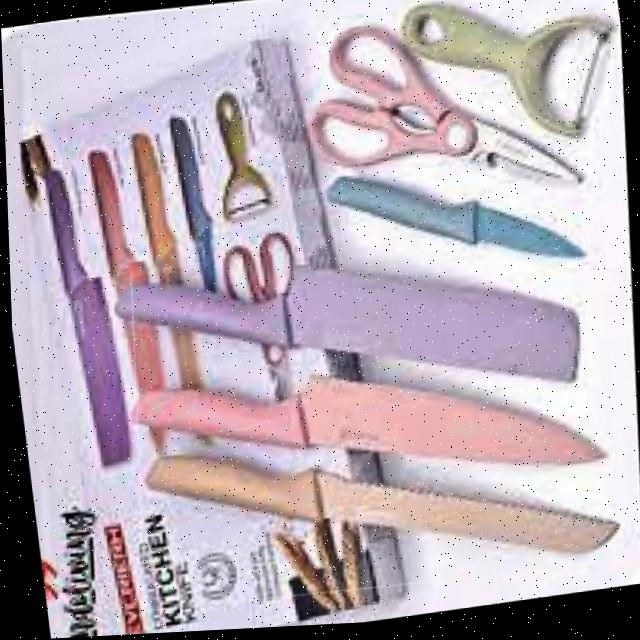knife: (139, 401, 621, 614), (105, 232, 585, 445), (122, 333, 601, 526), (321, 150, 583, 296)
